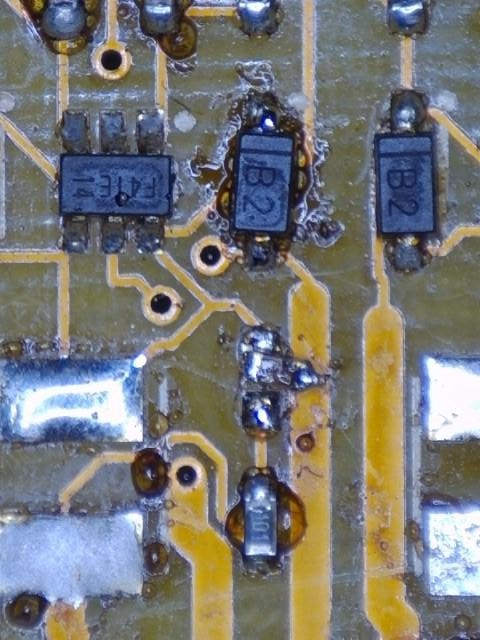pcb_defect: (238, 329, 321, 389), (43, 4, 87, 38), (59, 111, 89, 152), (136, 113, 163, 154), (100, 112, 125, 152)
